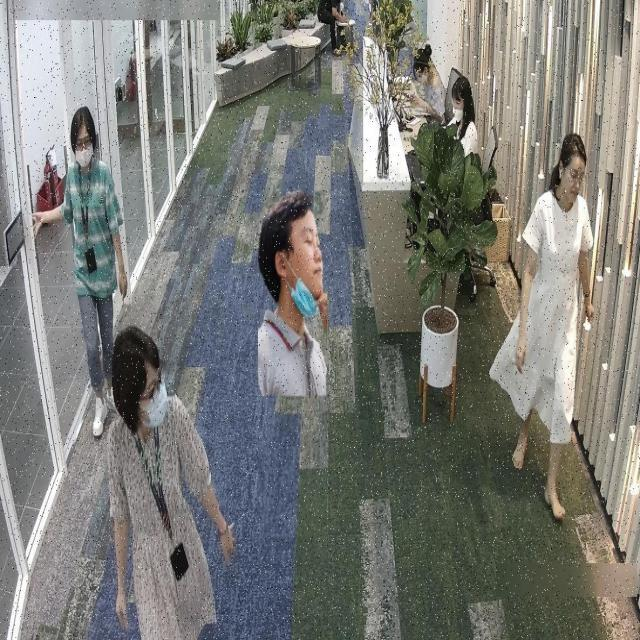hairnet: (280, 210, 326, 314)
